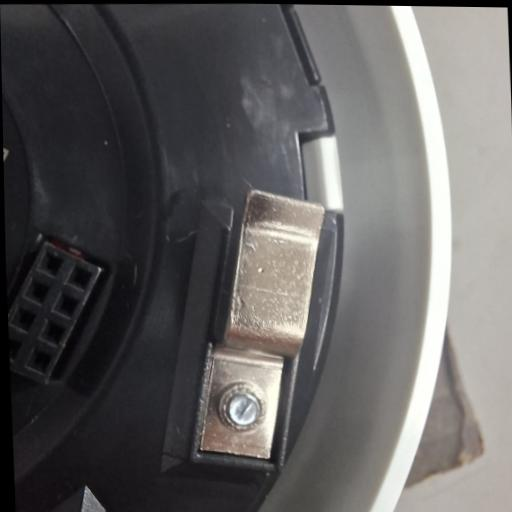yaysiz: (184, 185, 332, 468)
